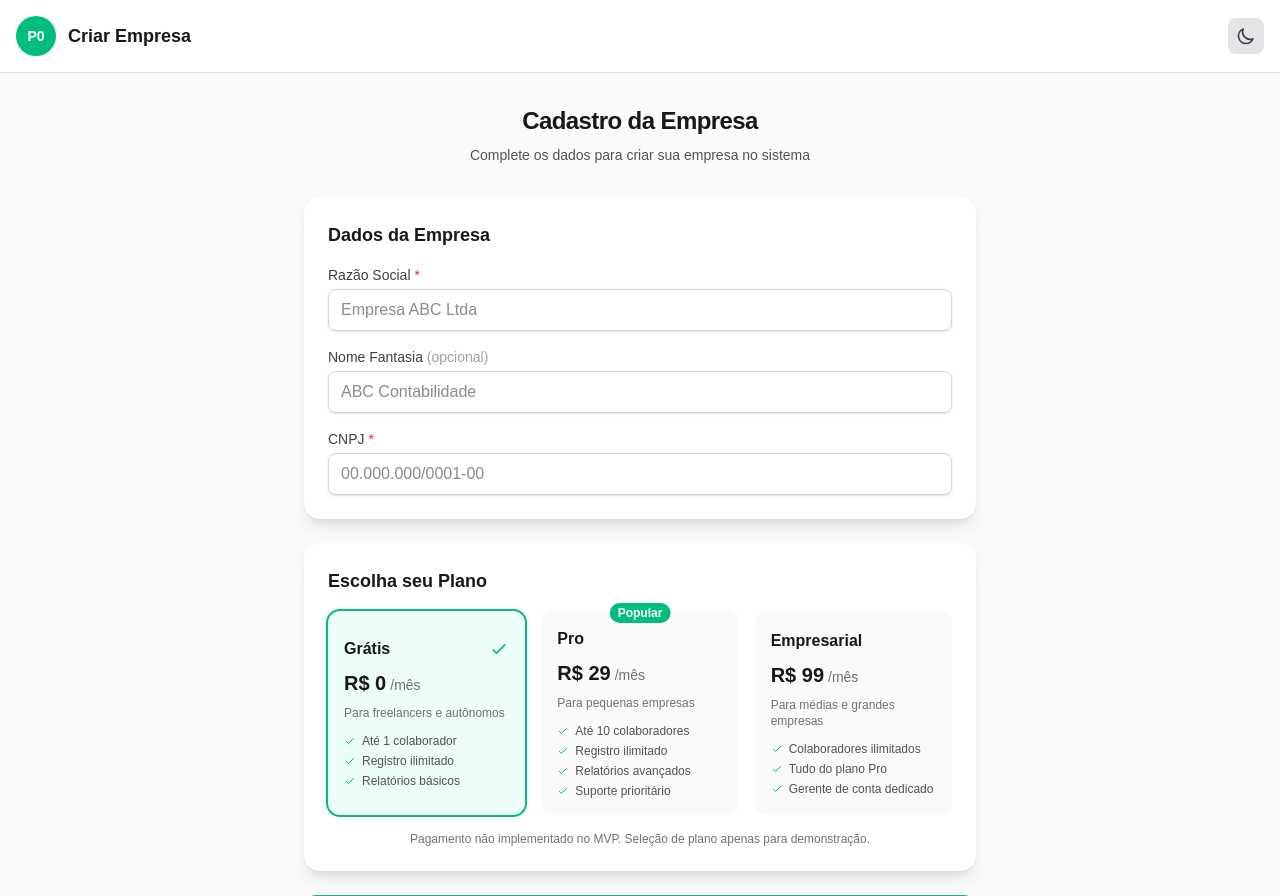
Scenario: Company Onboarding Page › formats CNPJ input correctly
The image size is (1280, 896).
Type "12345678000199" into the field labelled "CNPJ *" at (640, 474), box [328,453,952,495]
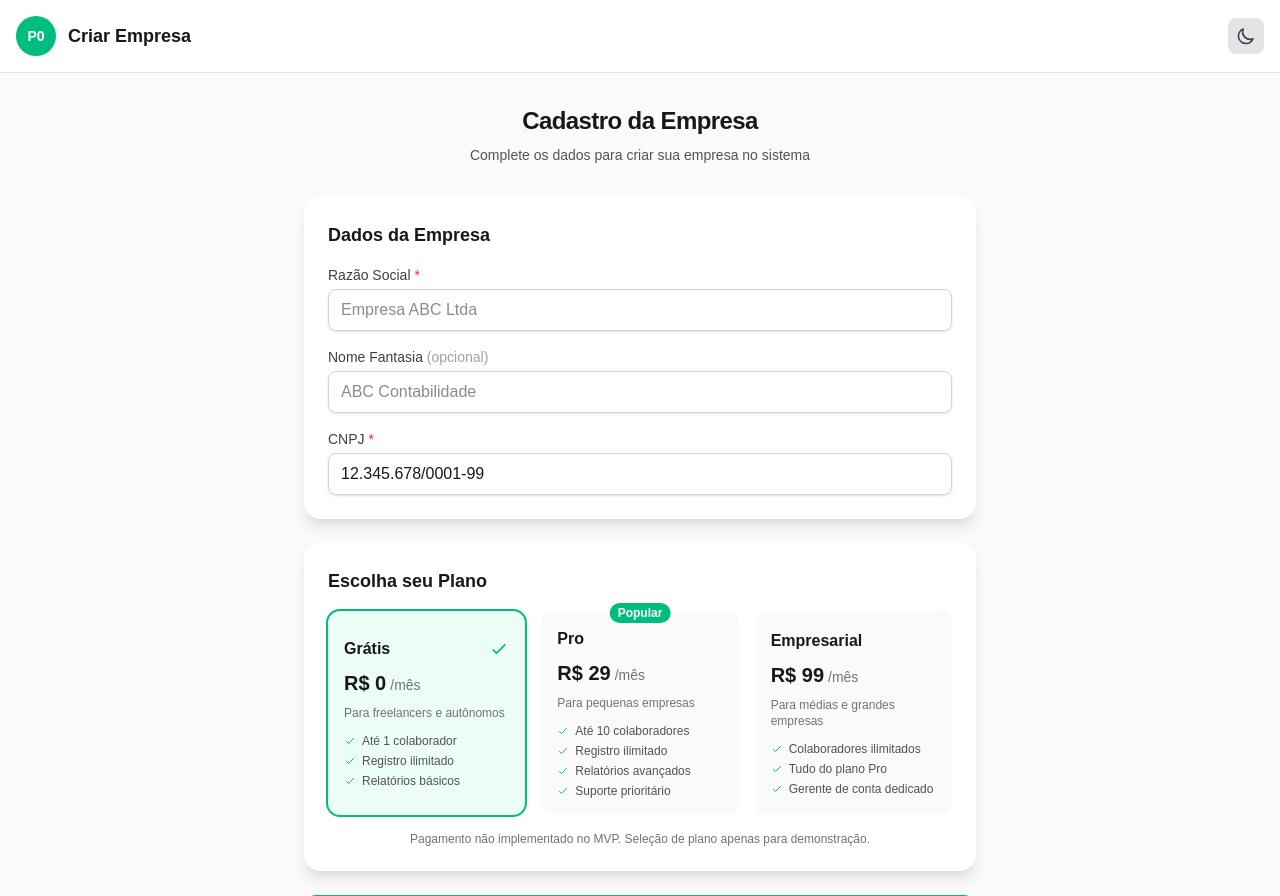
Now the field labelled "CNPJ *" holds "12.345.678/0001-99", box [328,453,952,495]
